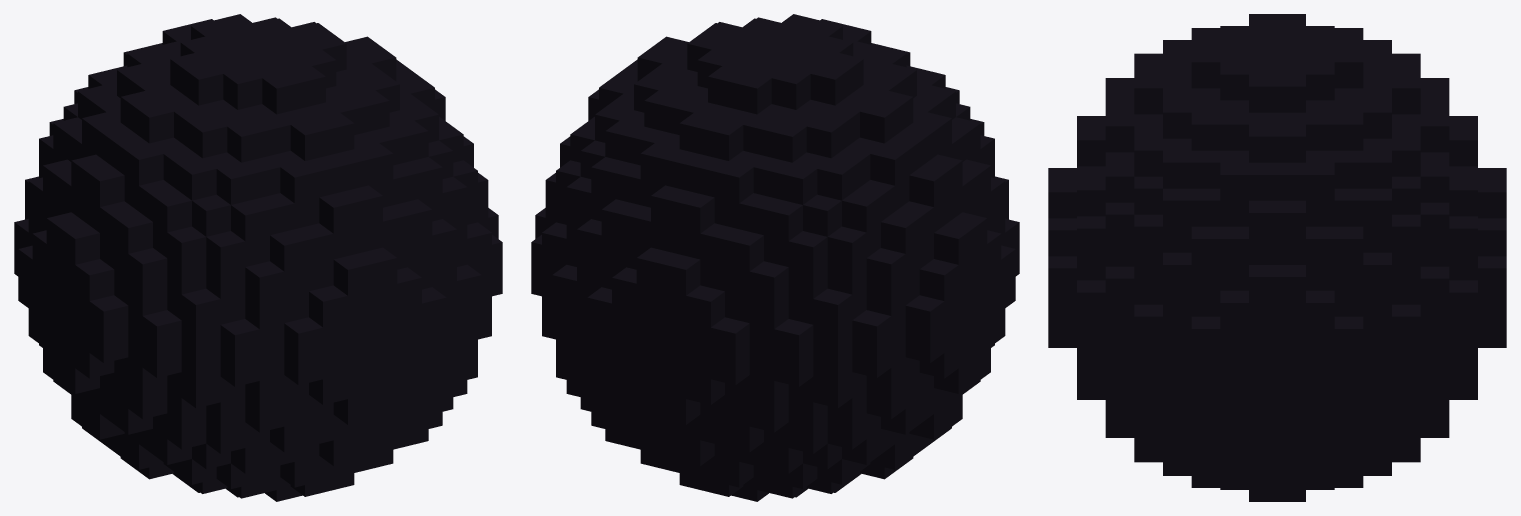
File: BombSmall.obj
3 views of the same model, side by side, from view 1: azimuth 30°, elevation 25°; view 2: azimuth 150°, elevation 25°; view 3: azimuth 270°, elevation 25° (orthographic).
Size of the model in its own units: 1.6 by 1.6 by 1.6.
1 material, 1 textured.
